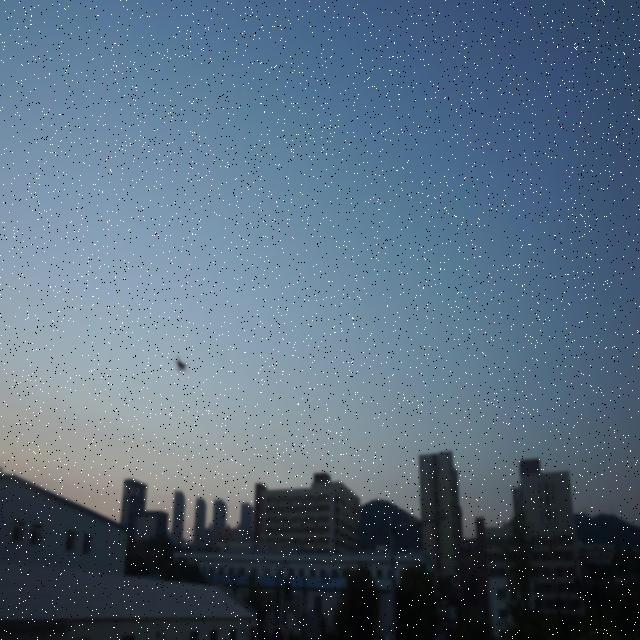UAV: (173, 355, 189, 376)
